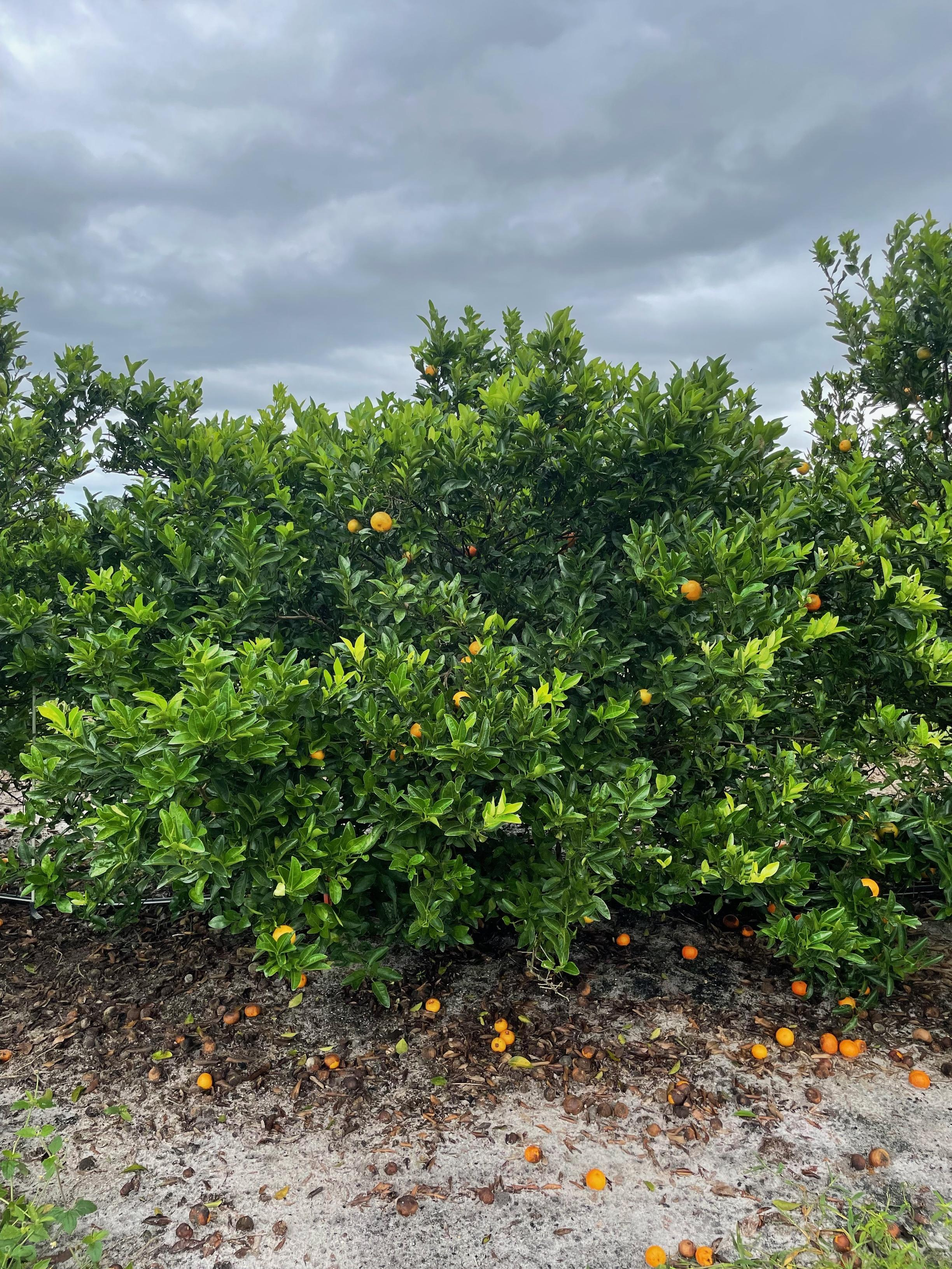fruit_on_ground: (270, 922, 298, 949), (556, 526, 582, 553), (679, 577, 705, 604), (386, 741, 413, 766), (368, 509, 395, 534), (449, 688, 475, 713), (857, 876, 881, 900), (875, 819, 900, 842), (306, 743, 330, 765), (633, 686, 656, 708), (800, 591, 823, 613), (464, 638, 487, 659), (832, 810, 856, 830), (406, 720, 427, 741), (462, 540, 481, 560), (914, 343, 934, 362), (346, 516, 365, 536), (456, 652, 478, 669), (399, 548, 418, 566), (794, 459, 813, 477), (863, 829, 882, 847), (836, 438, 854, 454), (423, 363, 440, 379), (579, 911, 596, 925)
fruit_on_tree: (584, 1166, 608, 1191), (907, 1068, 932, 1091), (395, 1195, 419, 1218), (644, 1244, 667, 1268), (838, 1248, 864, 1269), (868, 1146, 891, 1169), (830, 1230, 854, 1252), (562, 1093, 584, 1115), (774, 1025, 796, 1047), (188, 1205, 211, 1226), (694, 1243, 714, 1267), (288, 970, 310, 991), (838, 1038, 860, 1059), (818, 1031, 839, 1052), (677, 1237, 697, 1259), (848, 1151, 868, 1172), (671, 1077, 693, 1096), (665, 1087, 687, 1106), (912, 1025, 934, 1044), (523, 1143, 543, 1163), (195, 1071, 215, 1091), (175, 1221, 196, 1240), (422, 995, 443, 1014), (789, 978, 810, 997), (812, 1062, 833, 1080), (804, 1085, 823, 1104), (836, 994, 858, 1010), (750, 1041, 769, 1059), (477, 1187, 497, 1204), (242, 1002, 262, 1019), (680, 943, 700, 960), (595, 1100, 613, 1118), (323, 1051, 341, 1069), (305, 1055, 324, 1072), (569, 1066, 588, 1083), (613, 1100, 630, 1118), (492, 1016, 510, 1033), (221, 1009, 240, 1025), (576, 981, 593, 998), (579, 1043, 597, 1059), (500, 1029, 517, 1045), (489, 1036, 506, 1052), (615, 931, 632, 947), (851, 1038, 868, 1054), (314, 1067, 332, 1082), (721, 913, 739, 928), (343, 1076, 362, 1090), (645, 1121, 662, 1136), (739, 925, 756, 939), (0, 1047, 14, 1063), (888, 1047, 904, 1060)
